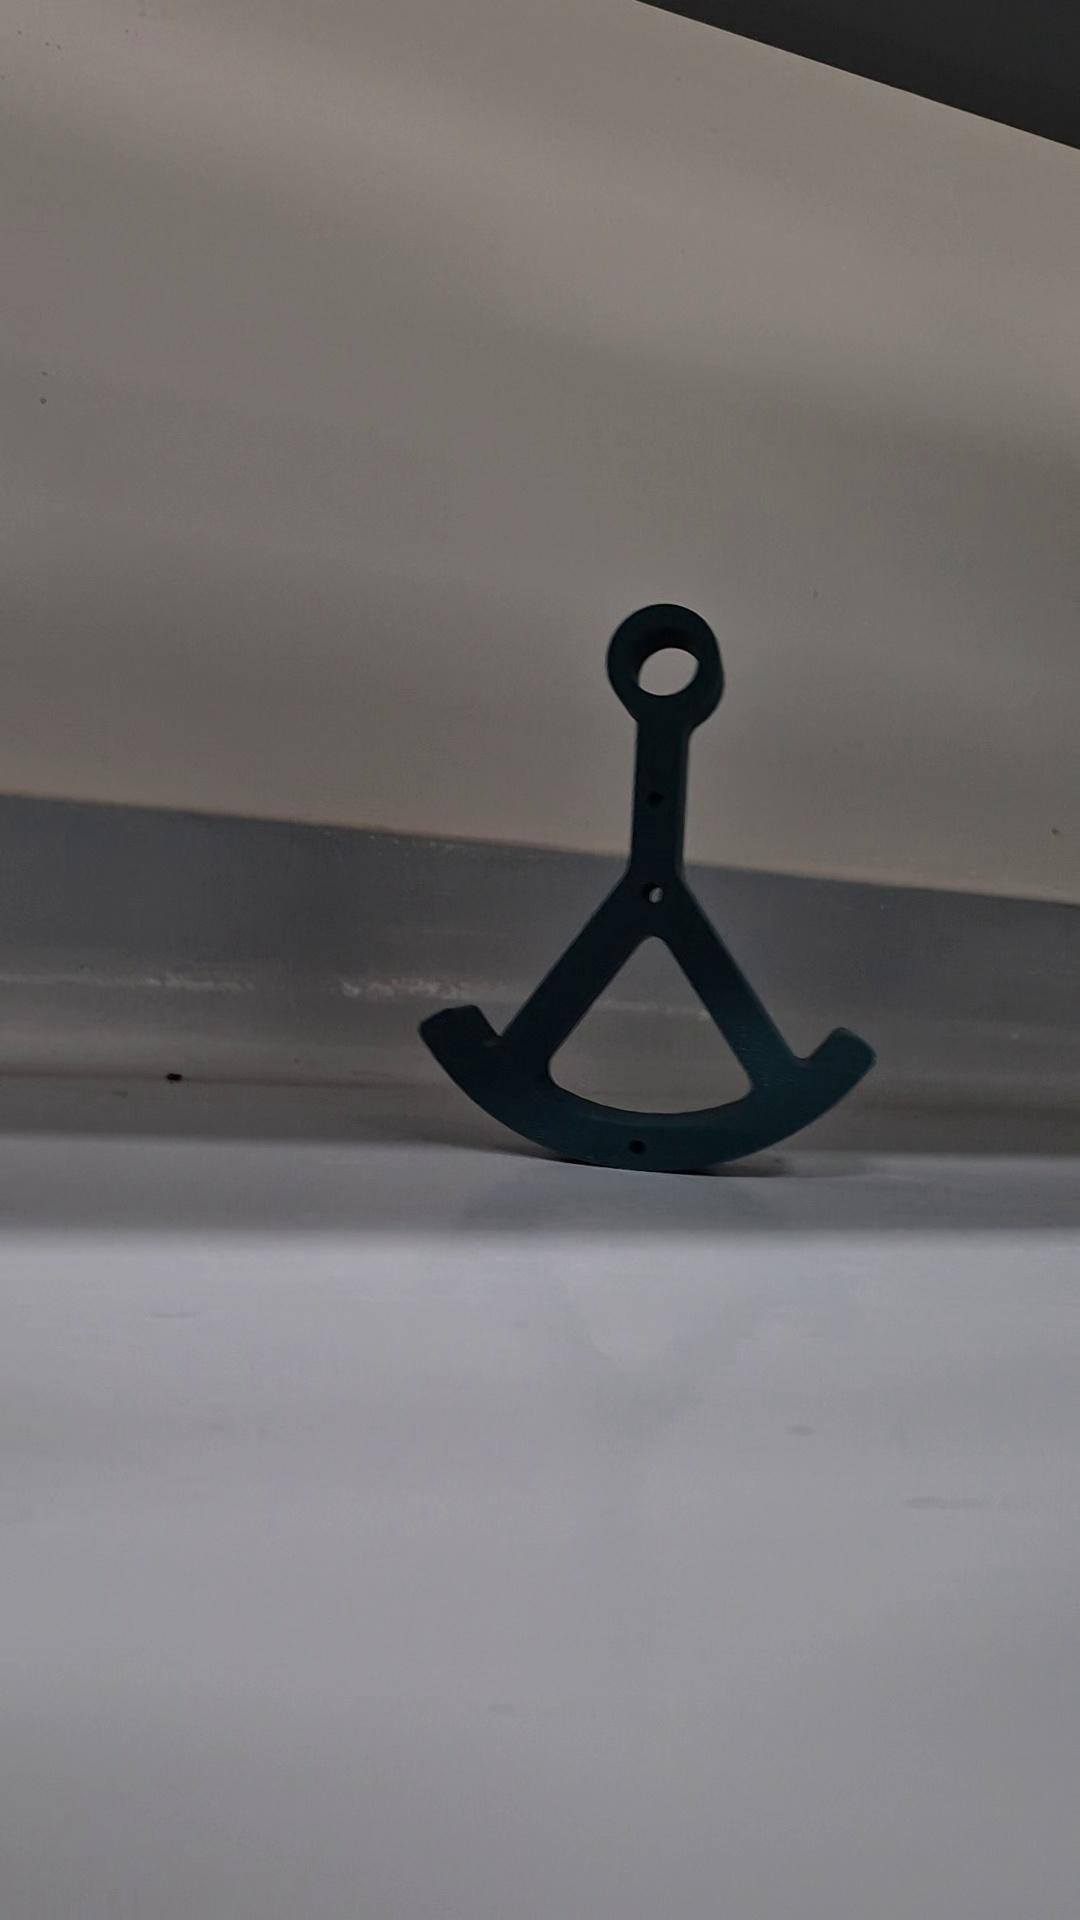Paddles: (411, 599, 881, 1180)
